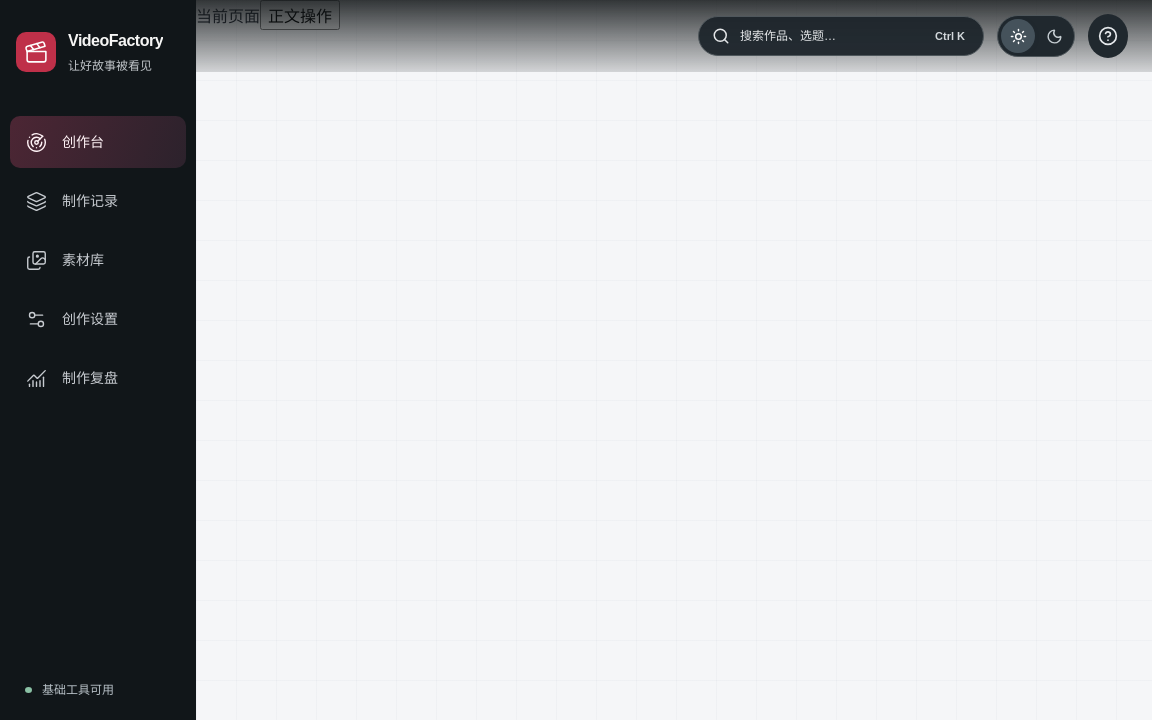
Test: navigates command results with arrows and Enter, then focuses the destination content
Click the button with aria-label "搜索项目、选题或功能" at (788, 36), box [698,16,984,56]
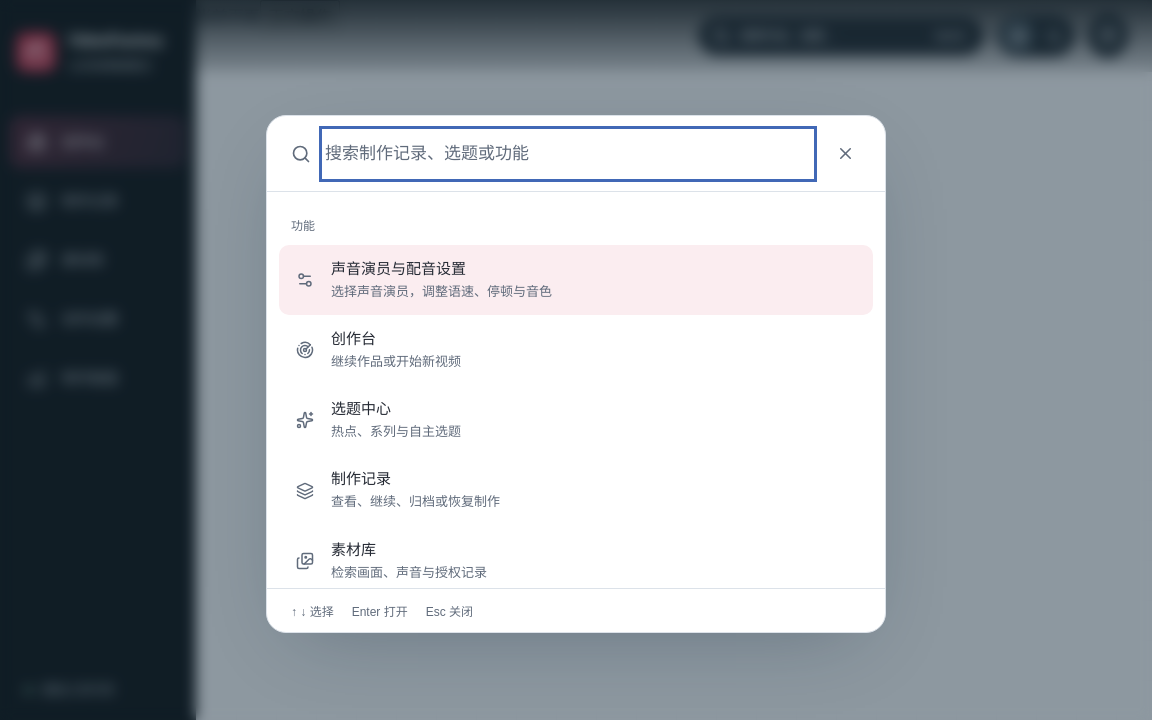
Press Arrowdown
Press Arrowup
Type "素材库" into the dropdown named "搜索项目、选题或功能" at (568, 154), box [325,132,811,176]
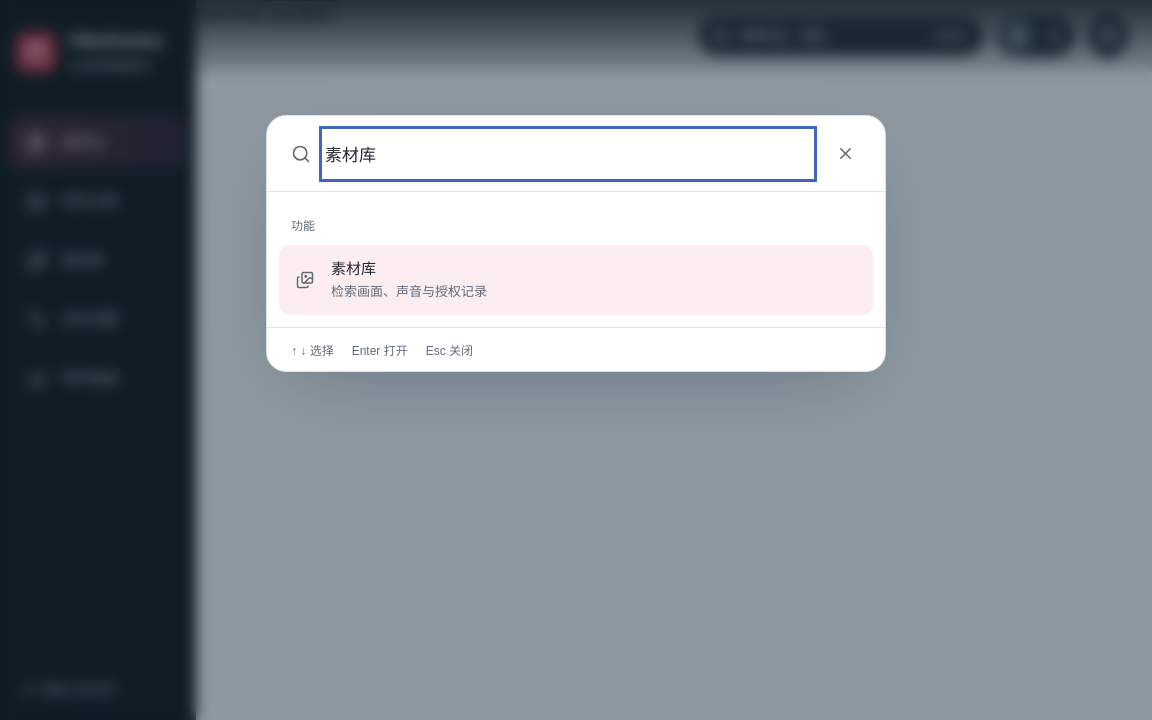
Press Enter
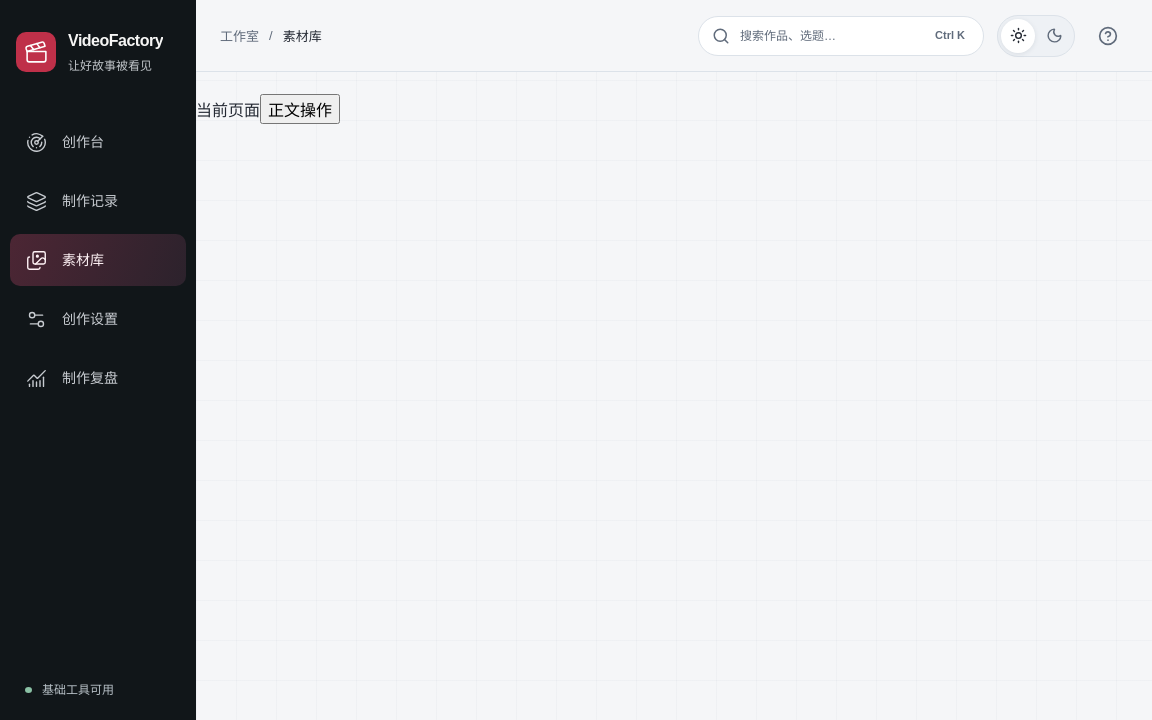
Result: the dialog is gone
Result: the element named "当前工作区" shows "素材库" at [283,29,322,44]
